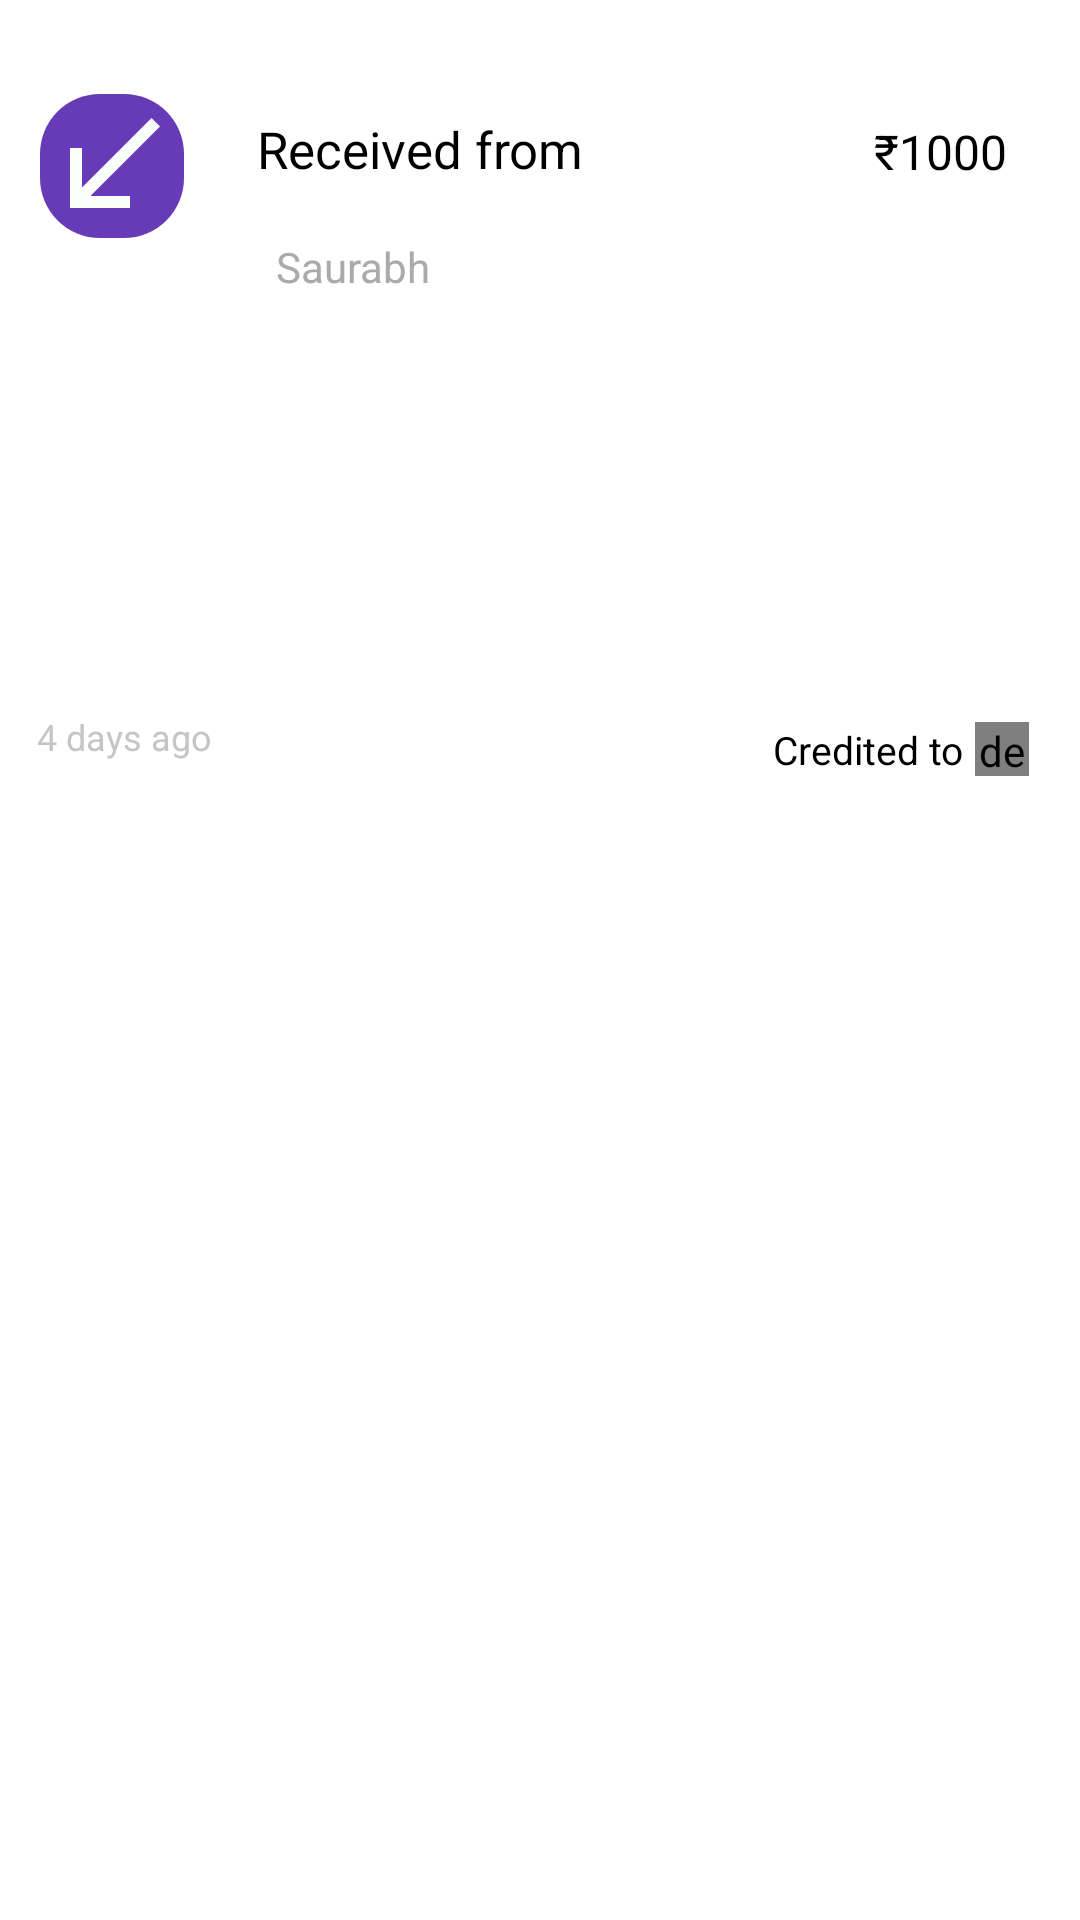

Icon click points for this 1080 × 1920 phone screenshot, format (x=x, y=y):
call received: (x=112, y=166)
